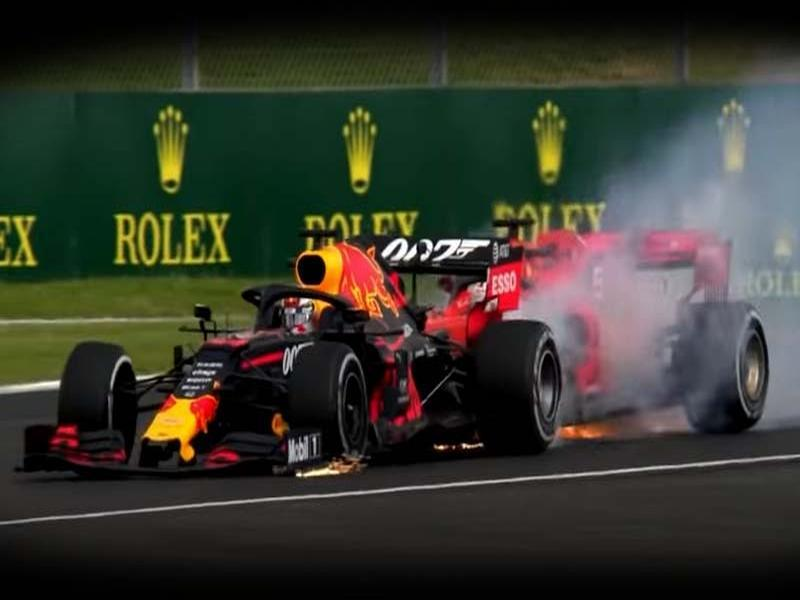f1: (40, 211, 558, 496)
